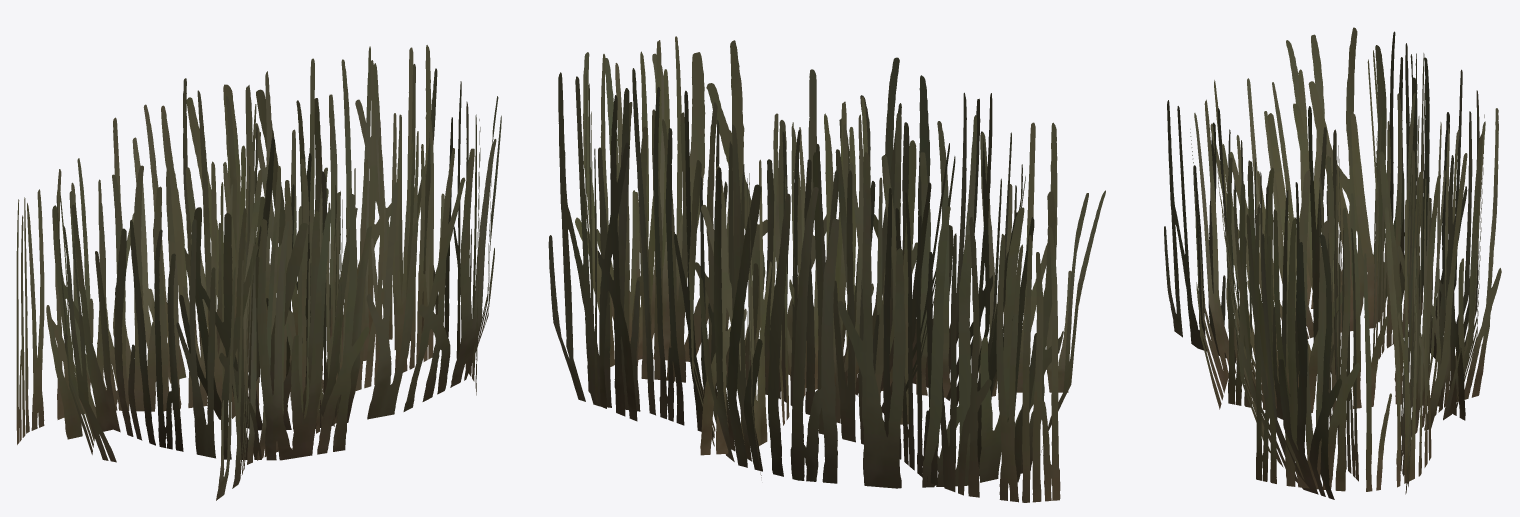
The picture shows the model from 3 angles, left to right: view 1: azimuth 30°, elevation 25°; view 2: azimuth 150°, elevation 25°; view 3: azimuth 270°, elevation 25°; orthographic projection. The views are drawn at different scales.
Parts seen in each view (by area): view 1: body0_model0_lod0_mesh0; view 2: body0_model0_lod0_mesh0; view 3: body0_model0_lod0_mesh0.
Part boxes in pixels (bbox=[...]): body0_model0_lod0_mesh0: bbox=[16, 45, 501, 500]; body0_model0_lod0_mesh0: bbox=[548, 36, 1105, 502]; body0_model0_lod0_mesh0: bbox=[1164, 27, 1501, 499].
Size of the model in its own units: 67.17 by 44.26 by 42.93.
Materials: 1 (1 with a texture image).
